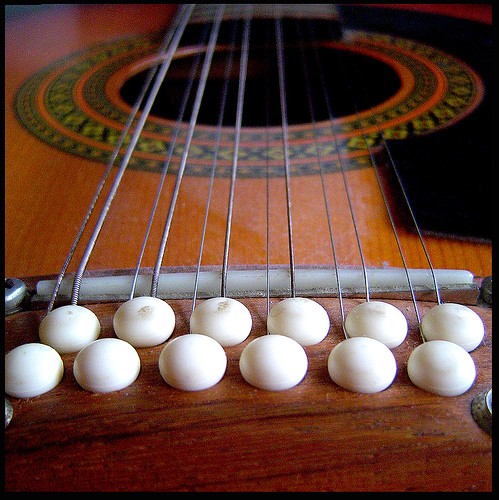guitar: (1, 1, 499, 500)
